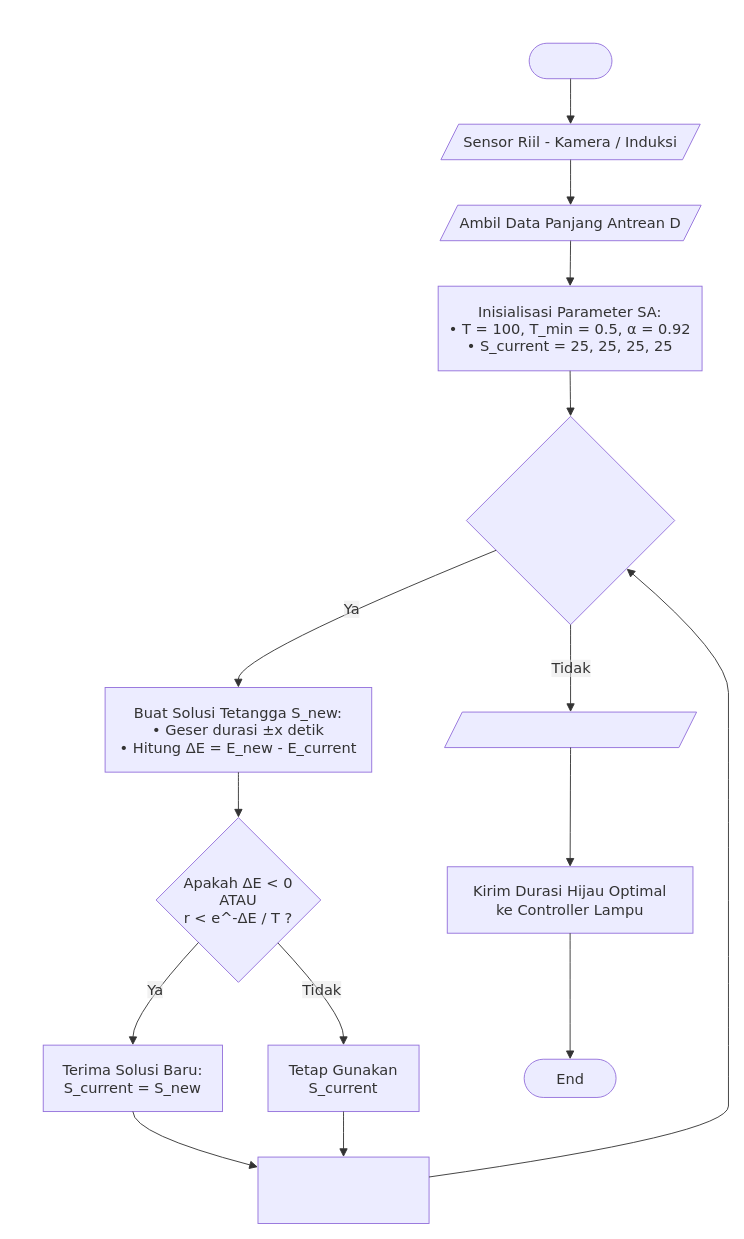
This 744x1239 diagram has some shape labels left out. Each missing label, with the centre of its shape:
Apakah T > T_min?: pixel 570 520
Output Solusi Terbaik S_best: pixel 570 729
Start: pixel 570 60
Turunkan Suhu: T = T * α: pixel 343 1189
